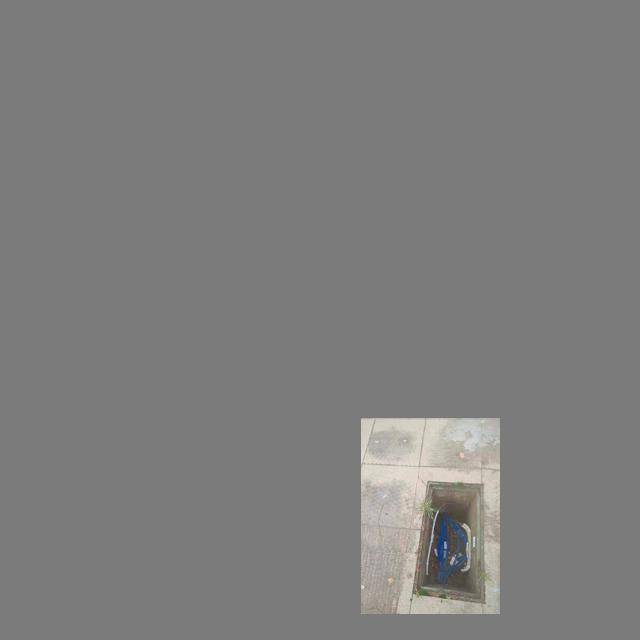lose: (415, 481, 487, 598)
